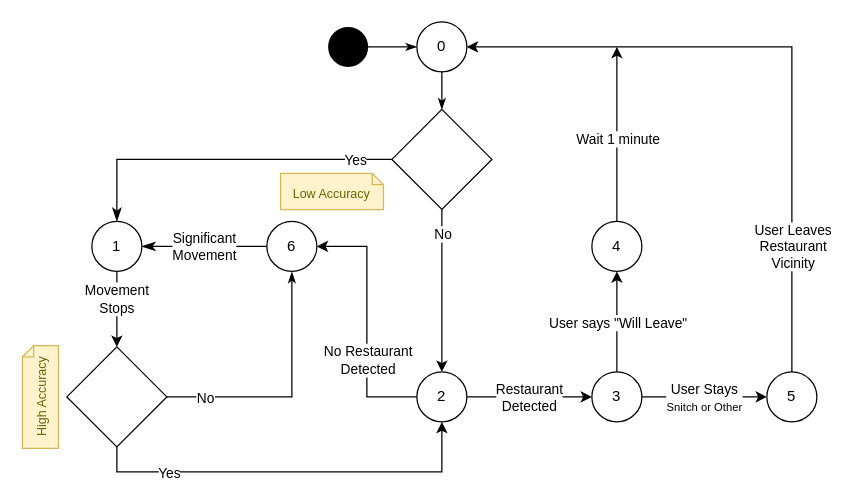
Image size: 853x504. Some labels were removed from this diagram. The centre of each missing label's shape, as x and y in pixels:
"Is Moving Significantly?" belongs at (441,158).
"Location Changed Significantly?" belongs at (116,396).
